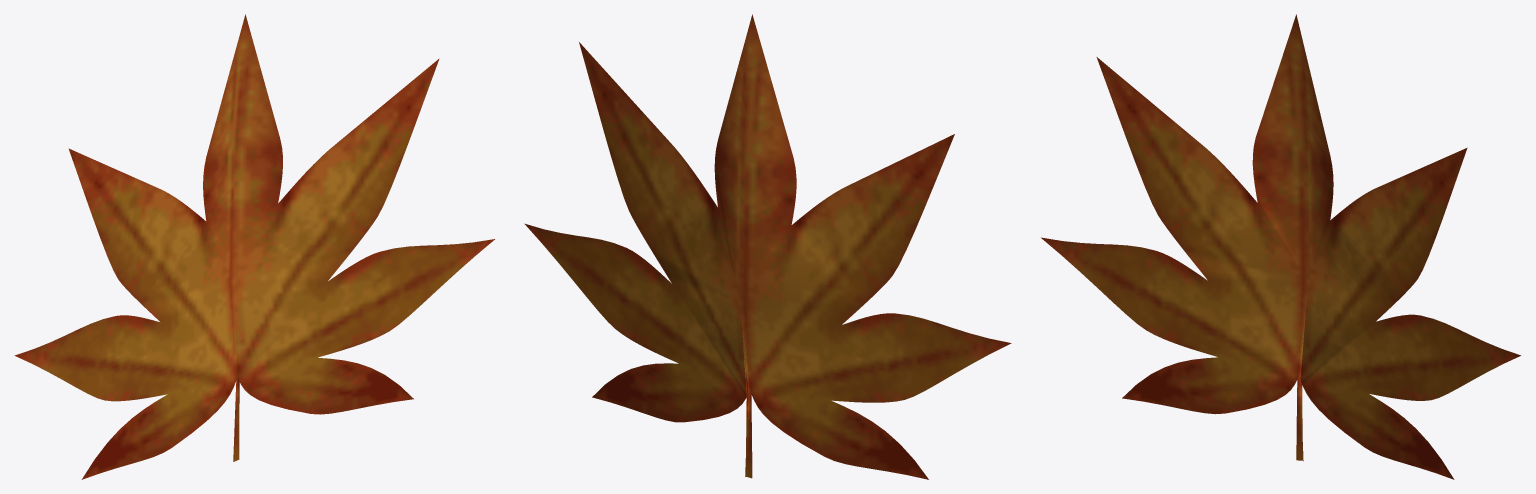
The model's file is AKA_VIEW.ICO.obj.
3 renders of one model, left to right at view 1: azimuth 30°, elevation 25°; view 2: azimuth 150°, elevation 25°; view 3: azimuth 330°, elevation 25°, orthographic.
Bounding box in the file's own units: 4.84 × 4.34 × 0.428.
Materials: 1 (1 with a texture image).
